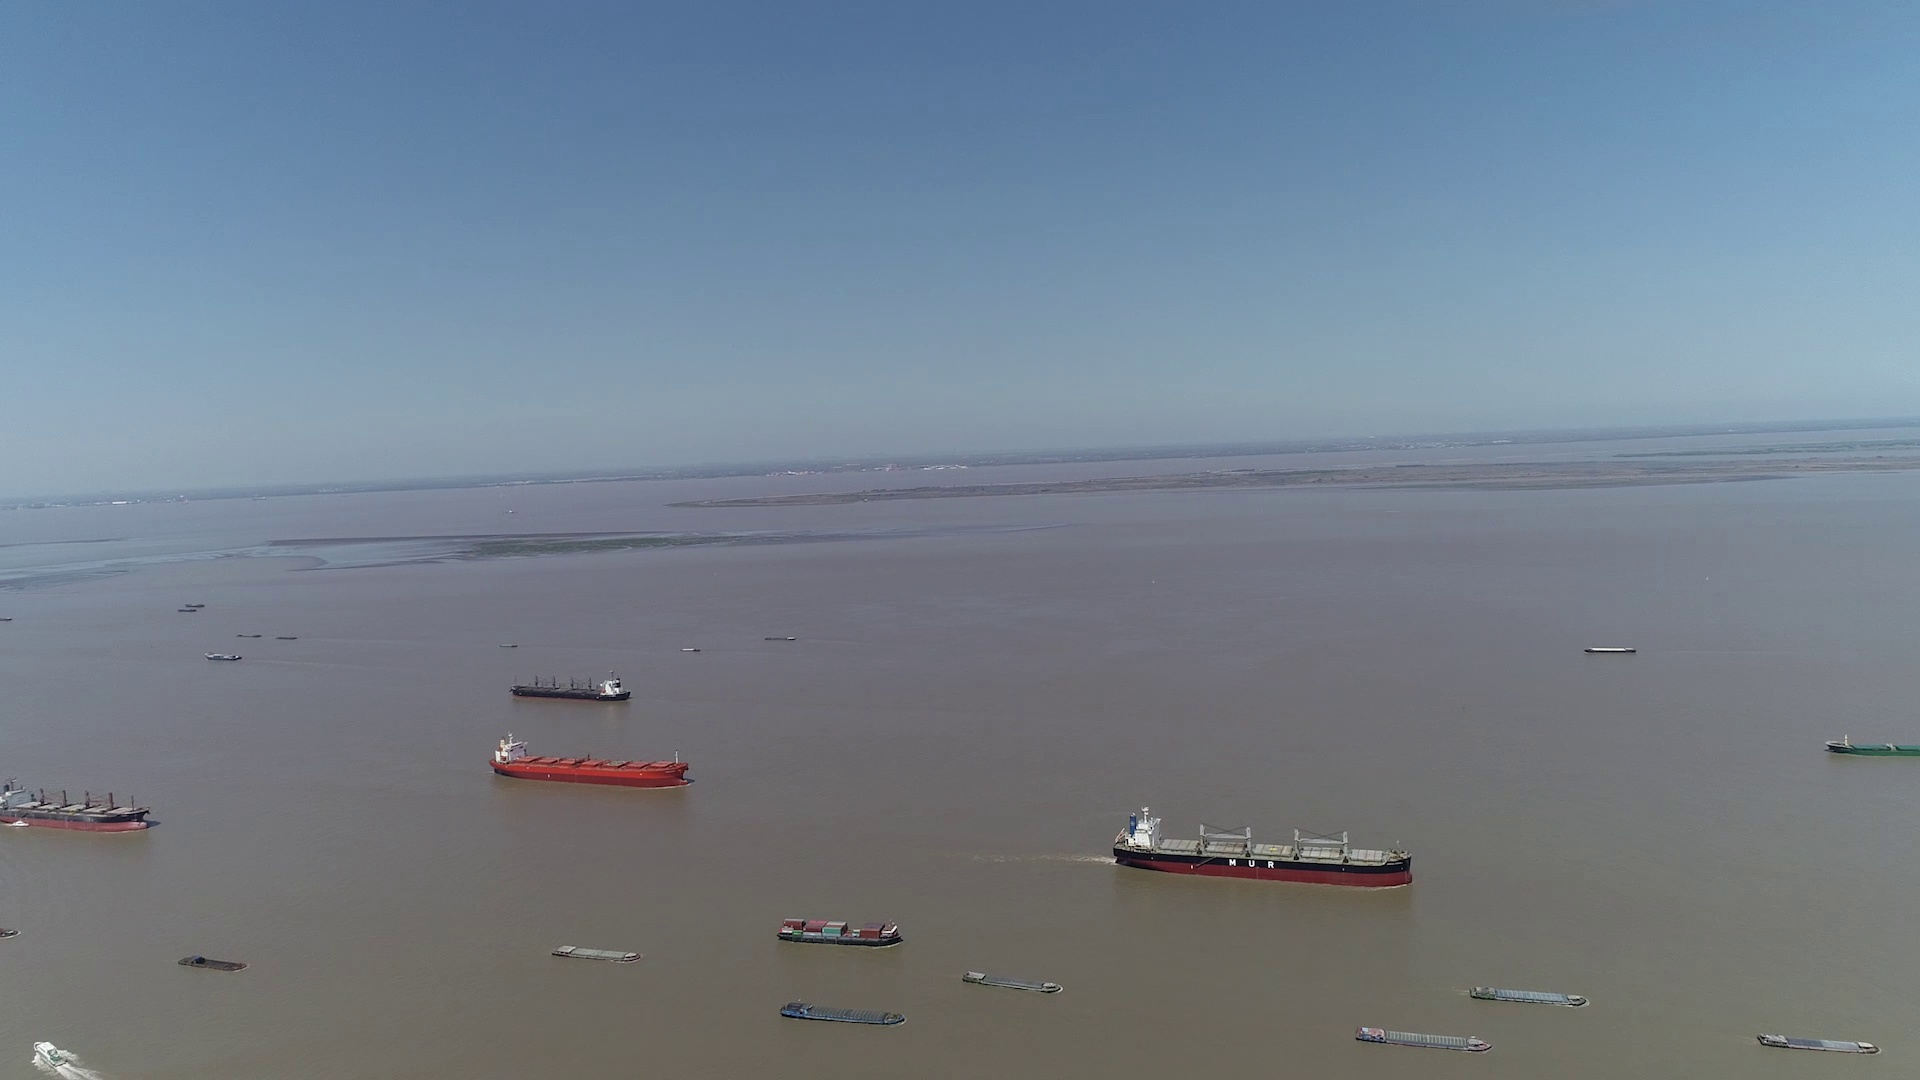ship: (1112, 804, 1415, 887), (488, 732, 690, 789), (0, 775, 152, 833), (775, 918, 905, 948), (1354, 1026, 1489, 1054), (512, 671, 628, 702), (778, 1001, 905, 1026), (1470, 982, 1589, 1007), (1756, 1031, 1879, 1055), (963, 969, 1062, 994), (1826, 735, 1920, 757), (29, 1040, 84, 1075), (553, 944, 642, 963), (177, 955, 247, 972), (1588, 646, 1634, 654), (204, 651, 243, 659), (1, 923, 16, 939), (0, 611, 12, 622)
